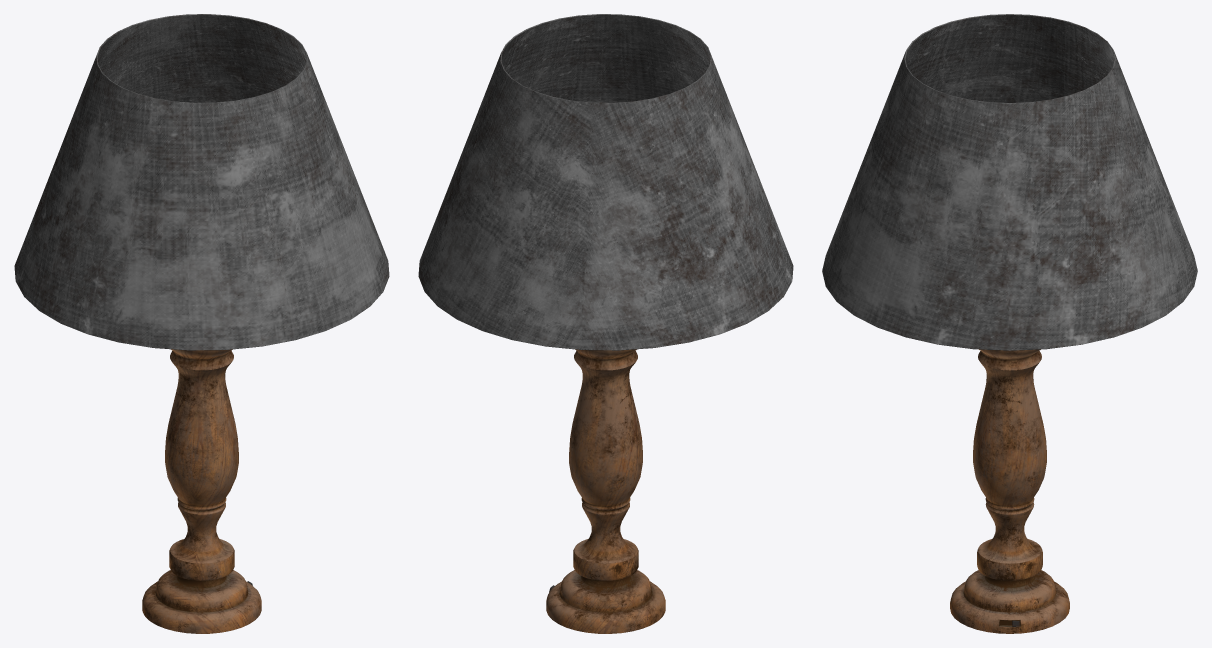
File: table_lamp.glb
3 views of the same model, side by side, from view 1: azimuth 30°, elevation 25°; view 2: azimuth 150°, elevation 25°; view 3: azimuth 270°, elevation 25° (orthographic).
Parts seen in each view (by area): view 1: Shade_low, Stand_low; view 2: Shade_low, Stand_low; view 3: Shade_low, Stand_low.
Boxes of the visible parts, x1,y1,x2,y2 form: Shade_low: (14, 14, 389, 350); Stand_low: (142, 349, 261, 633); Shade_low: (418, 14, 793, 350); Stand_low: (546, 349, 665, 633); Shade_low: (822, 14, 1197, 350); Stand_low: (950, 349, 1069, 633).
Bounding box in the file's own units: 0.4987 × 0.8055 × 0.4987.
Materials: 1 (1 with a texture image).
